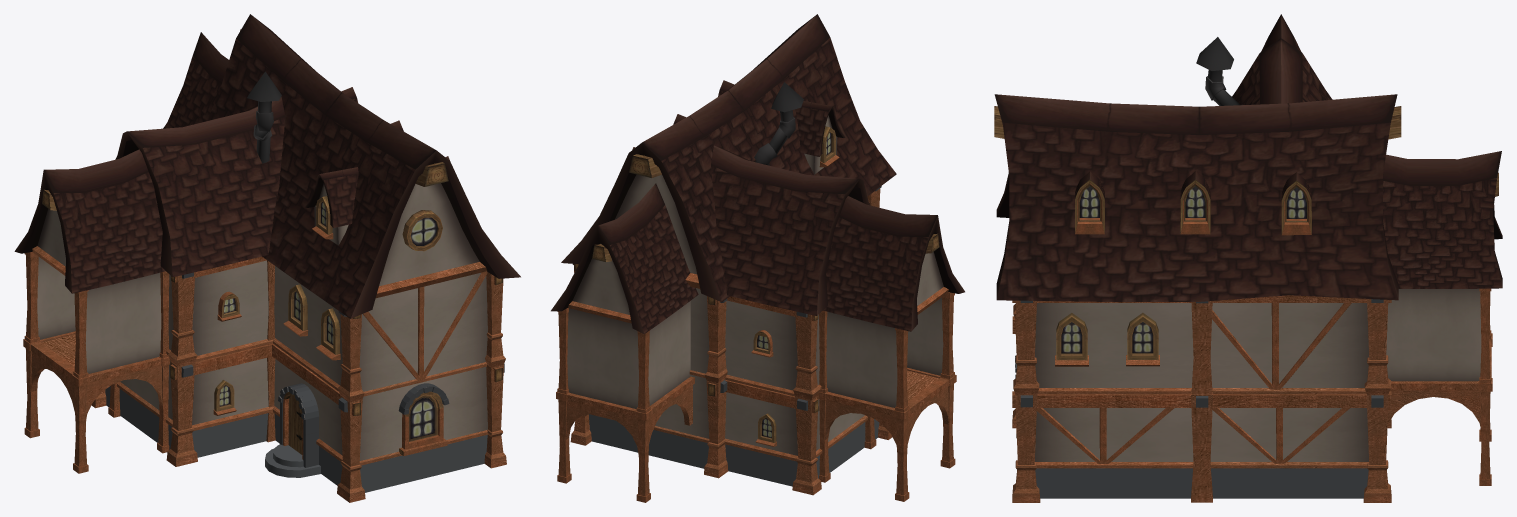
Rendered from fanasty_mod_village_building22.fbx.
The picture shows the model from 3 angles, left to right: view 1: azimuth 30°, elevation 25°; view 2: azimuth 150°, elevation 25°; view 3: azimuth 270°, elevation 25°; orthographic projection. The views are drawn at different scales.
Visible parts, largest first — view 1: village_building_022; view 2: village_building_022; view 3: village_building_022.
Boxes of the visible parts, bbox=[...] form: village_building_022: bbox=[14, 14, 520, 502]; village_building_022: bbox=[551, 14, 964, 502]; village_building_022: bbox=[994, 14, 1502, 502].
Bounding box in the file's own units: 13.37 × 13.26 × 15.69.
